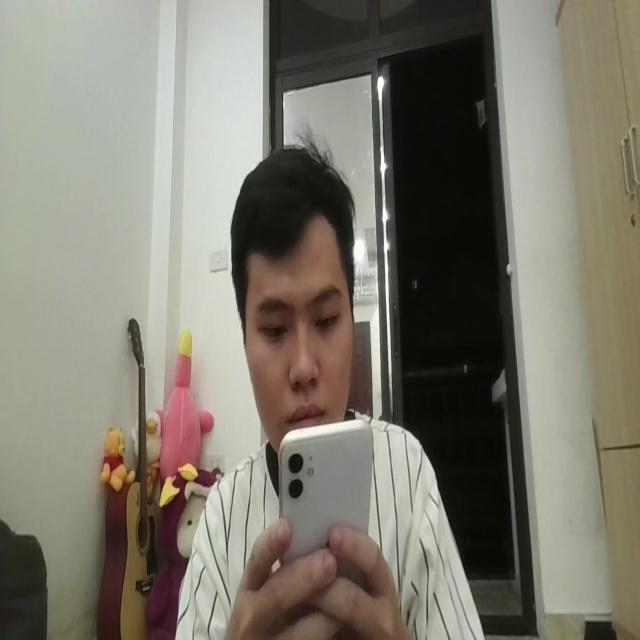phone: (277, 405, 372, 550)
student: (167, 144, 492, 640)
